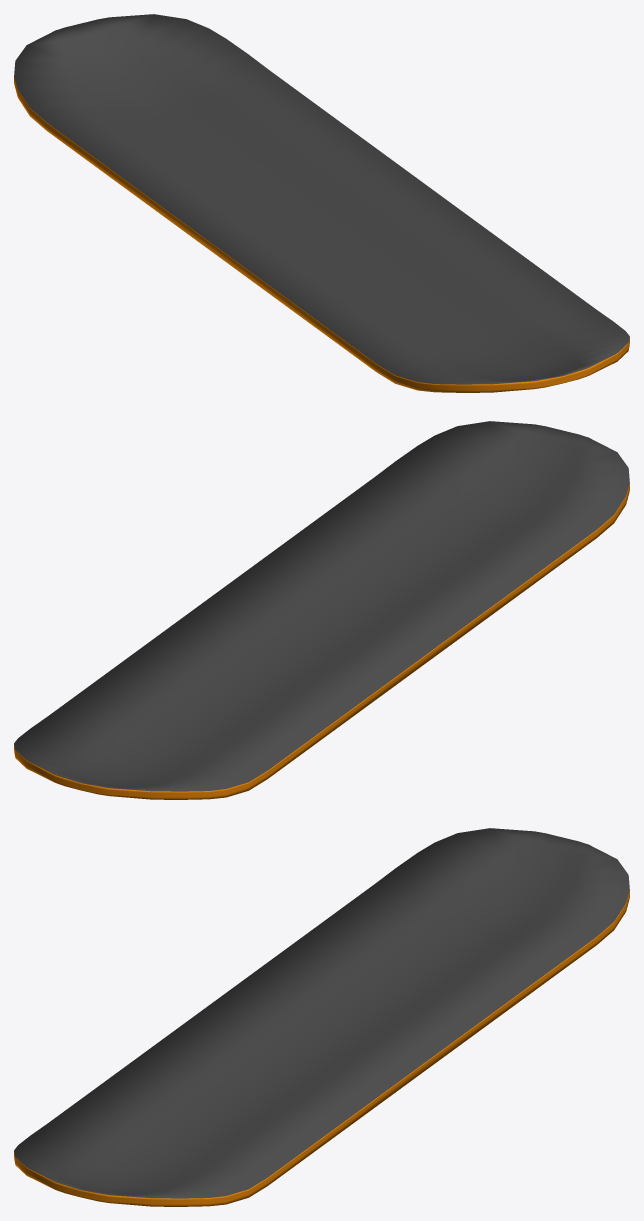
File: Skateboard.fbx
3 renders of one model, top to bottom at view 1: azimuth 30°, elevation 25°; view 2: azimuth 150°, elevation 25°; view 3: azimuth 330°, elevation 25°, orthographic.
Parts seen in each view (by area): view 1: Deck; view 2: Deck; view 3: Deck.
Boxes of the visible parts, x1,y1,x2,y2 form: Deck: [14, 14, 629, 392]; Deck: [14, 421, 629, 799]; Deck: [14, 828, 629, 1206].
Bounding box in the file's own units: 22.24 × 3.79 × 84.09.
